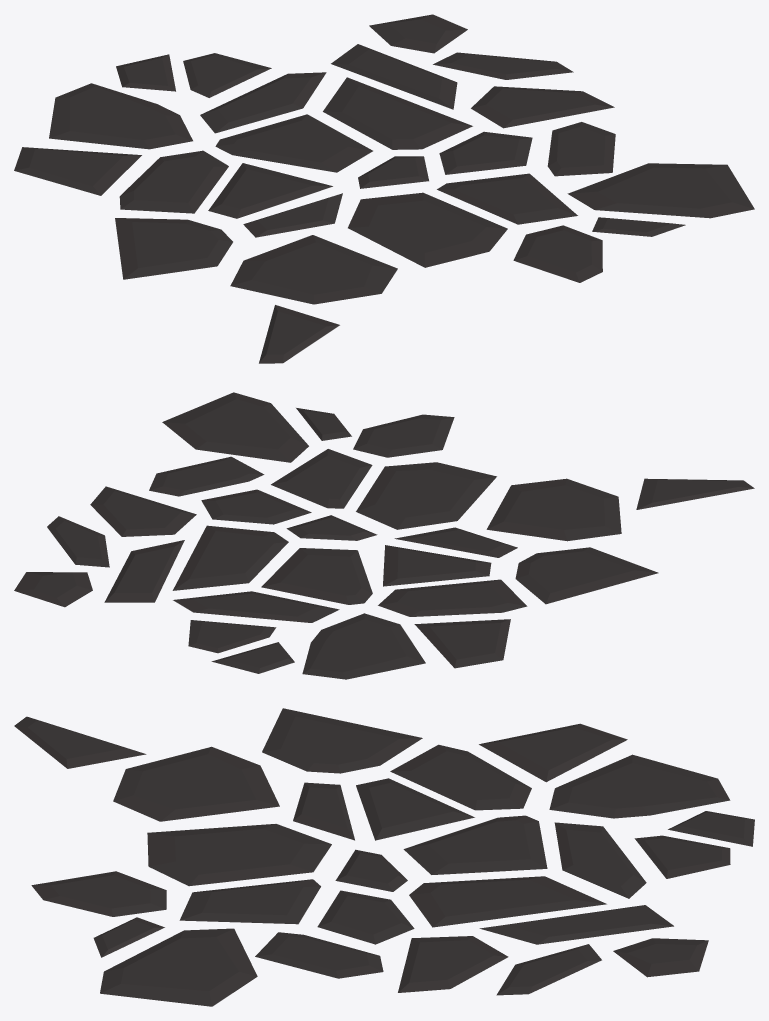
The model's file is Stone_Module_2M.glb.
3 renders of one model, top to bottom at view 1: azimuth 30°, elevation 25°; view 2: azimuth 150°, elevation 25°; view 3: azimuth 270°, elevation 25°, orthographic. The views are drawn at different scales.
Visible parts, largest first — view 1: Stone_Module_2M; view 2: Stone_Module_2M; view 3: Stone_Module_2M.
Part boxes in pixels (box(x1,y1,x2,y2)): Stone_Module_2M: box(14, 14, 754, 363); Stone_Module_2M: box(14, 392, 754, 679); Stone_Module_2M: box(14, 708, 754, 1006).
Size of what is drawn, in the model's own units: 2.26 by 0.0113 by 2.37.
1 material, 1 textured.
